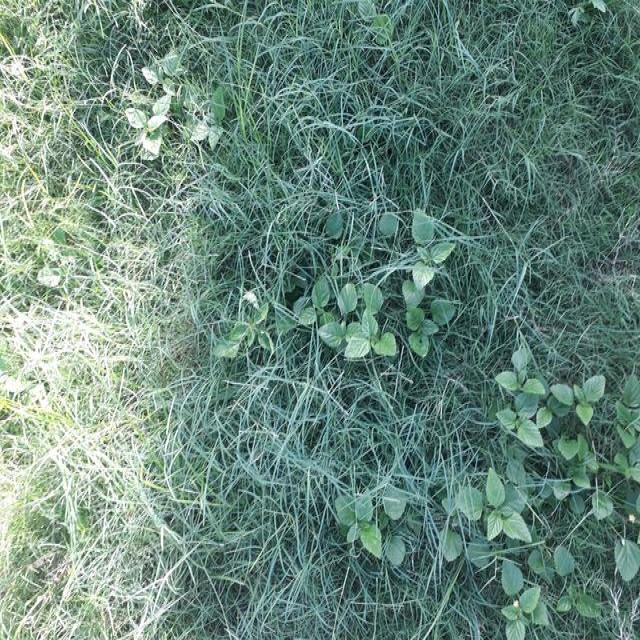weed: (481, 364, 640, 612), (340, 483, 628, 586), (296, 212, 460, 375), (111, 56, 218, 155)
